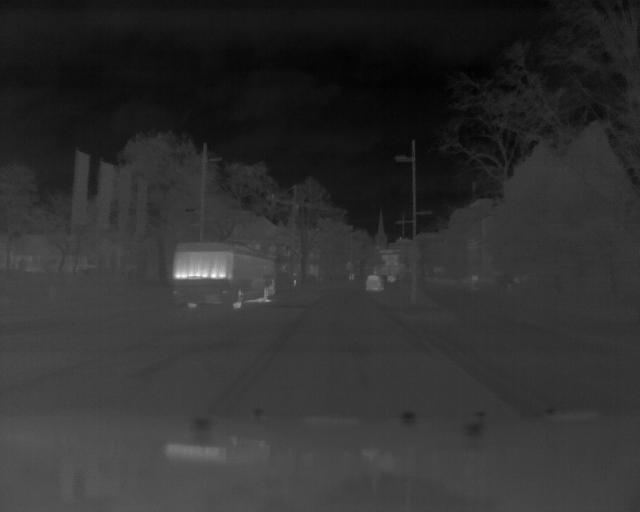car: (169, 241, 279, 310), (365, 274, 387, 295)
